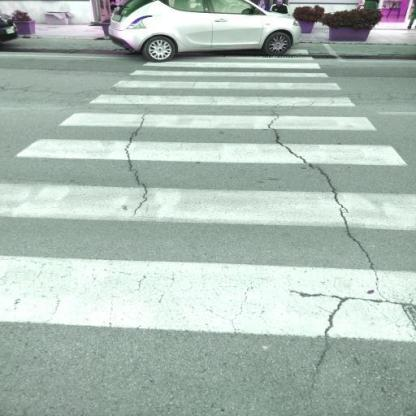crosswalk: (7, 110, 415, 172), (103, 68, 351, 94)
